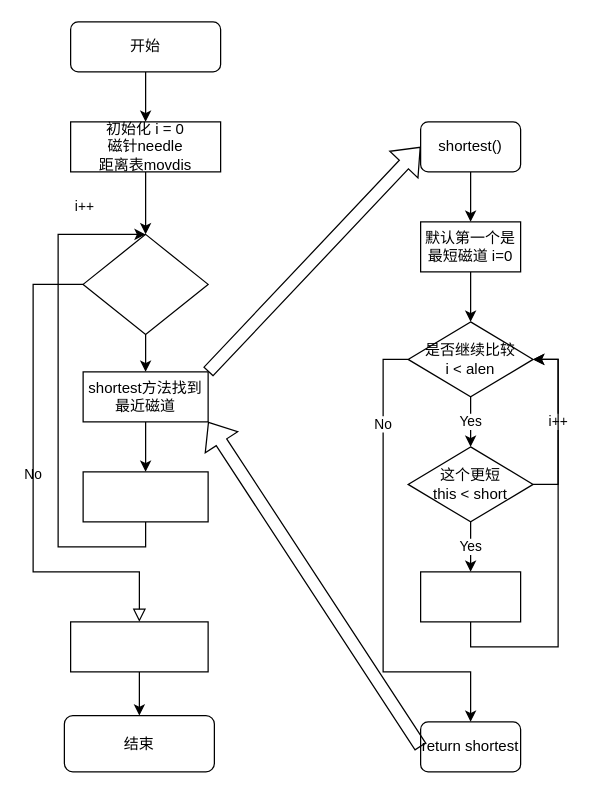
Some shapes in this 590 by 794 pixel diagram are drawn without their labels. The centre of each missing label's shape, as x and y in pixels:
movdis[i] = 距离 needle更新: (145,496)
short = this: (470,596)
是否继续 i < len: (145,283)
计算平均磁道数: (138,646)
